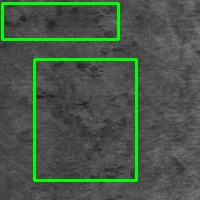rolled-in_scale: (34, 59, 136, 180), (2, 3, 118, 39)
